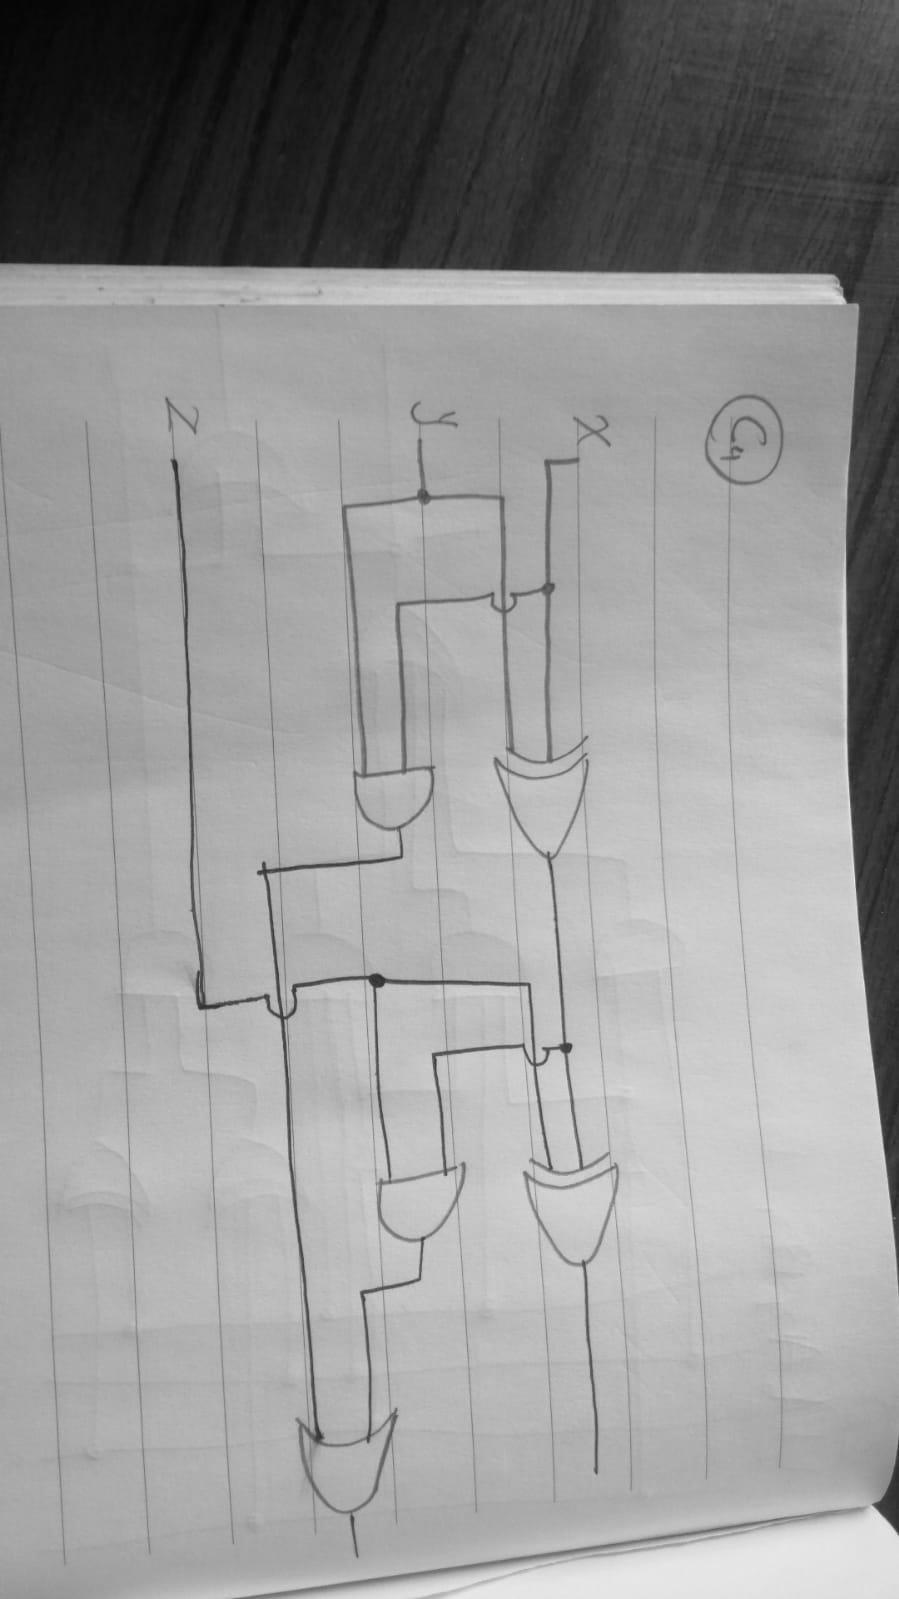AND: (353, 1150, 480, 1252), (340, 757, 459, 843)
OR: (290, 1394, 432, 1522)
XOR: (514, 1130, 662, 1284), (486, 730, 626, 872)
